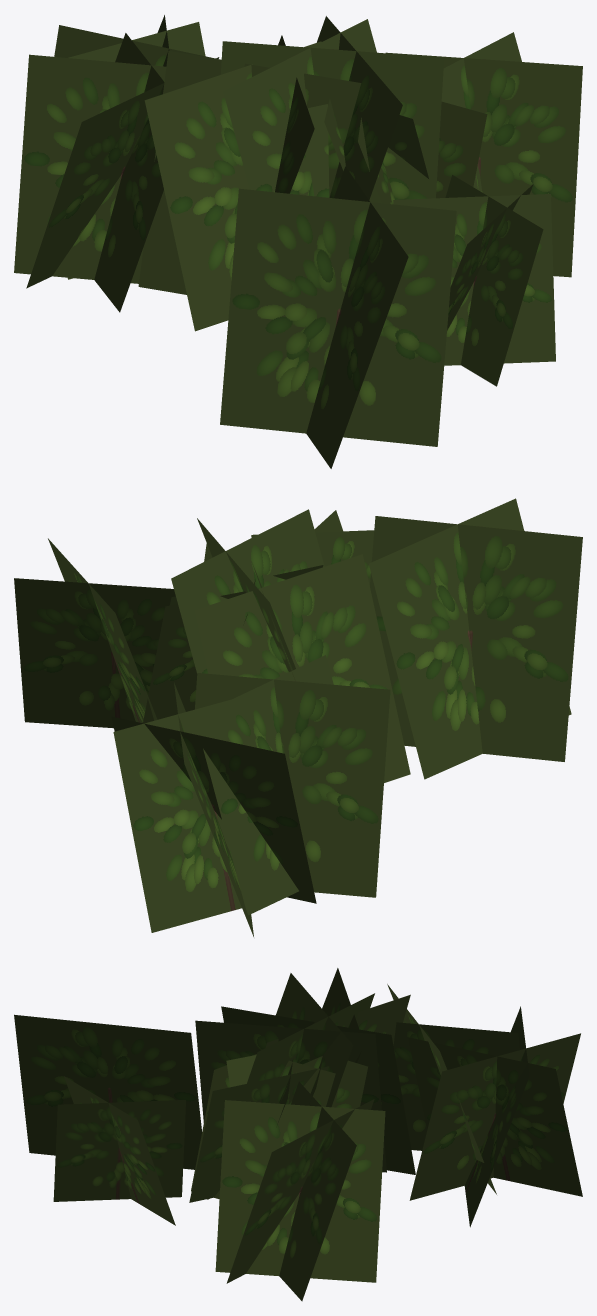
The model's file is SM_Art_Veg_Shrub_0.gltf.
The picture shows the model from 3 angles, top to bottom: view 1: azimuth 30°, elevation 25°; view 2: azimuth 150°, elevation 25°; view 3: azimuth 270°, elevation 25°; orthographic projection. The views are drawn at different scales.
Parts seen in each view (by area): view 1: SM_Art_Veg_Shrub_0; view 2: SM_Art_Veg_Shrub_0; view 3: SM_Art_Veg_Shrub_0.
Boxes of the visible parts, bbox=[...] form: SM_Art_Veg_Shrub_0: bbox=[14, 15, 582, 468]; SM_Art_Veg_Shrub_0: bbox=[14, 498, 582, 936]; SM_Art_Veg_Shrub_0: bbox=[14, 968, 582, 1301].
Bounding box in the file's own units: 2.41 × 1.27 × 3.2.
1 material, 1 textured.
